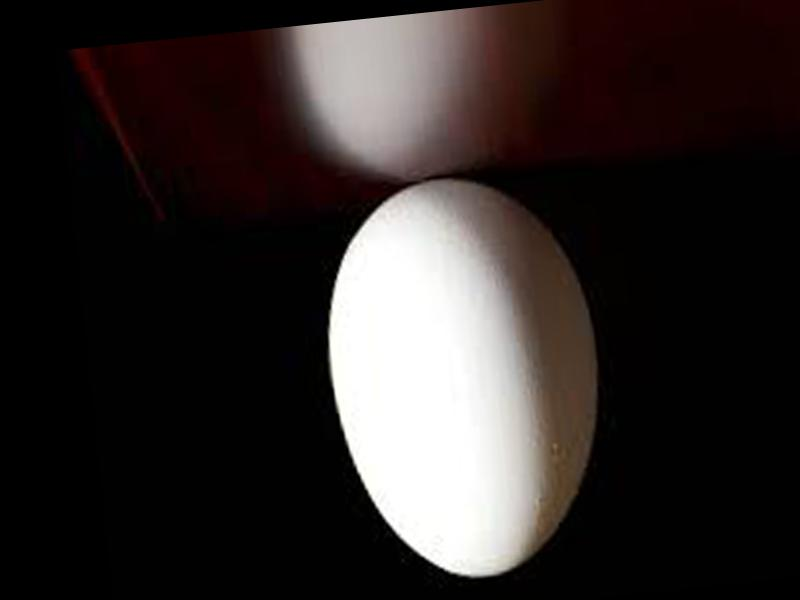Eggs: (313, 164, 614, 589)
